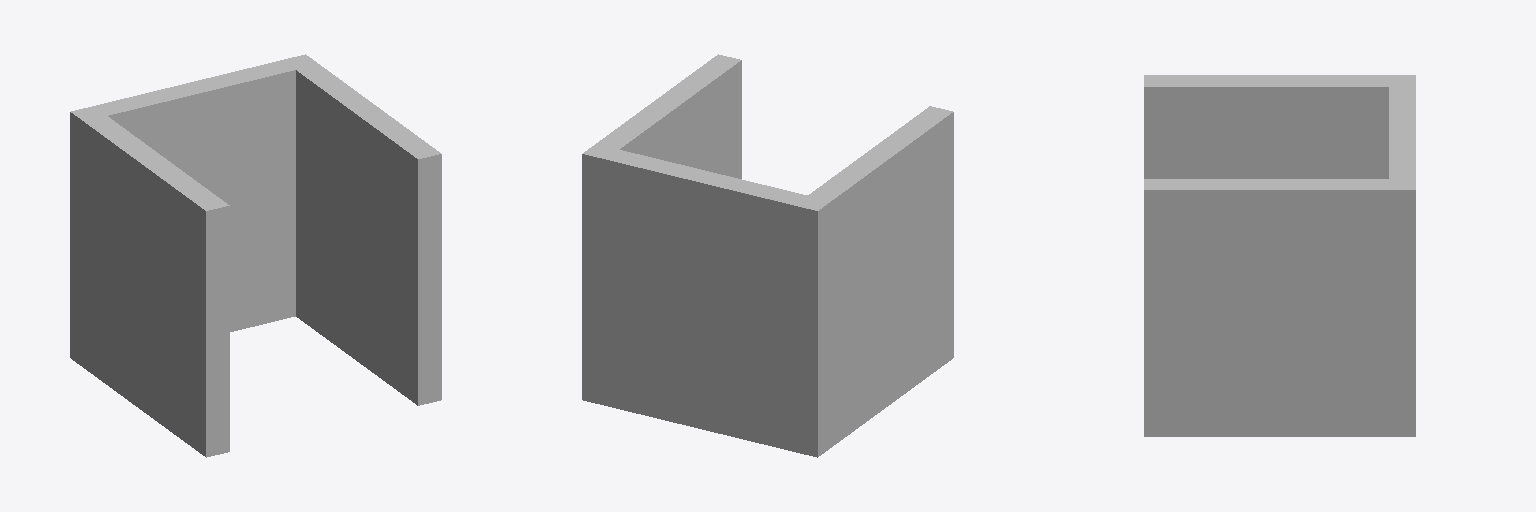
Rendered from corridor.obj.
3 renders of one model, left to right at view 1: azimuth 30°, elevation 25°; view 2: azimuth 150°, elevation 25°; view 3: azimuth 270°, elevation 25°, orthographic.
Visible parts, largest first — view 1: Cube; view 2: Cube; view 3: Cube.
Part boxes in pixels (bbox=[...]): Cube: bbox=[70, 54, 441, 457]; Cube: bbox=[582, 54, 953, 457]; Cube: bbox=[1144, 75, 1415, 436].
Size of the model in its own units: 2 by 2 by 2.